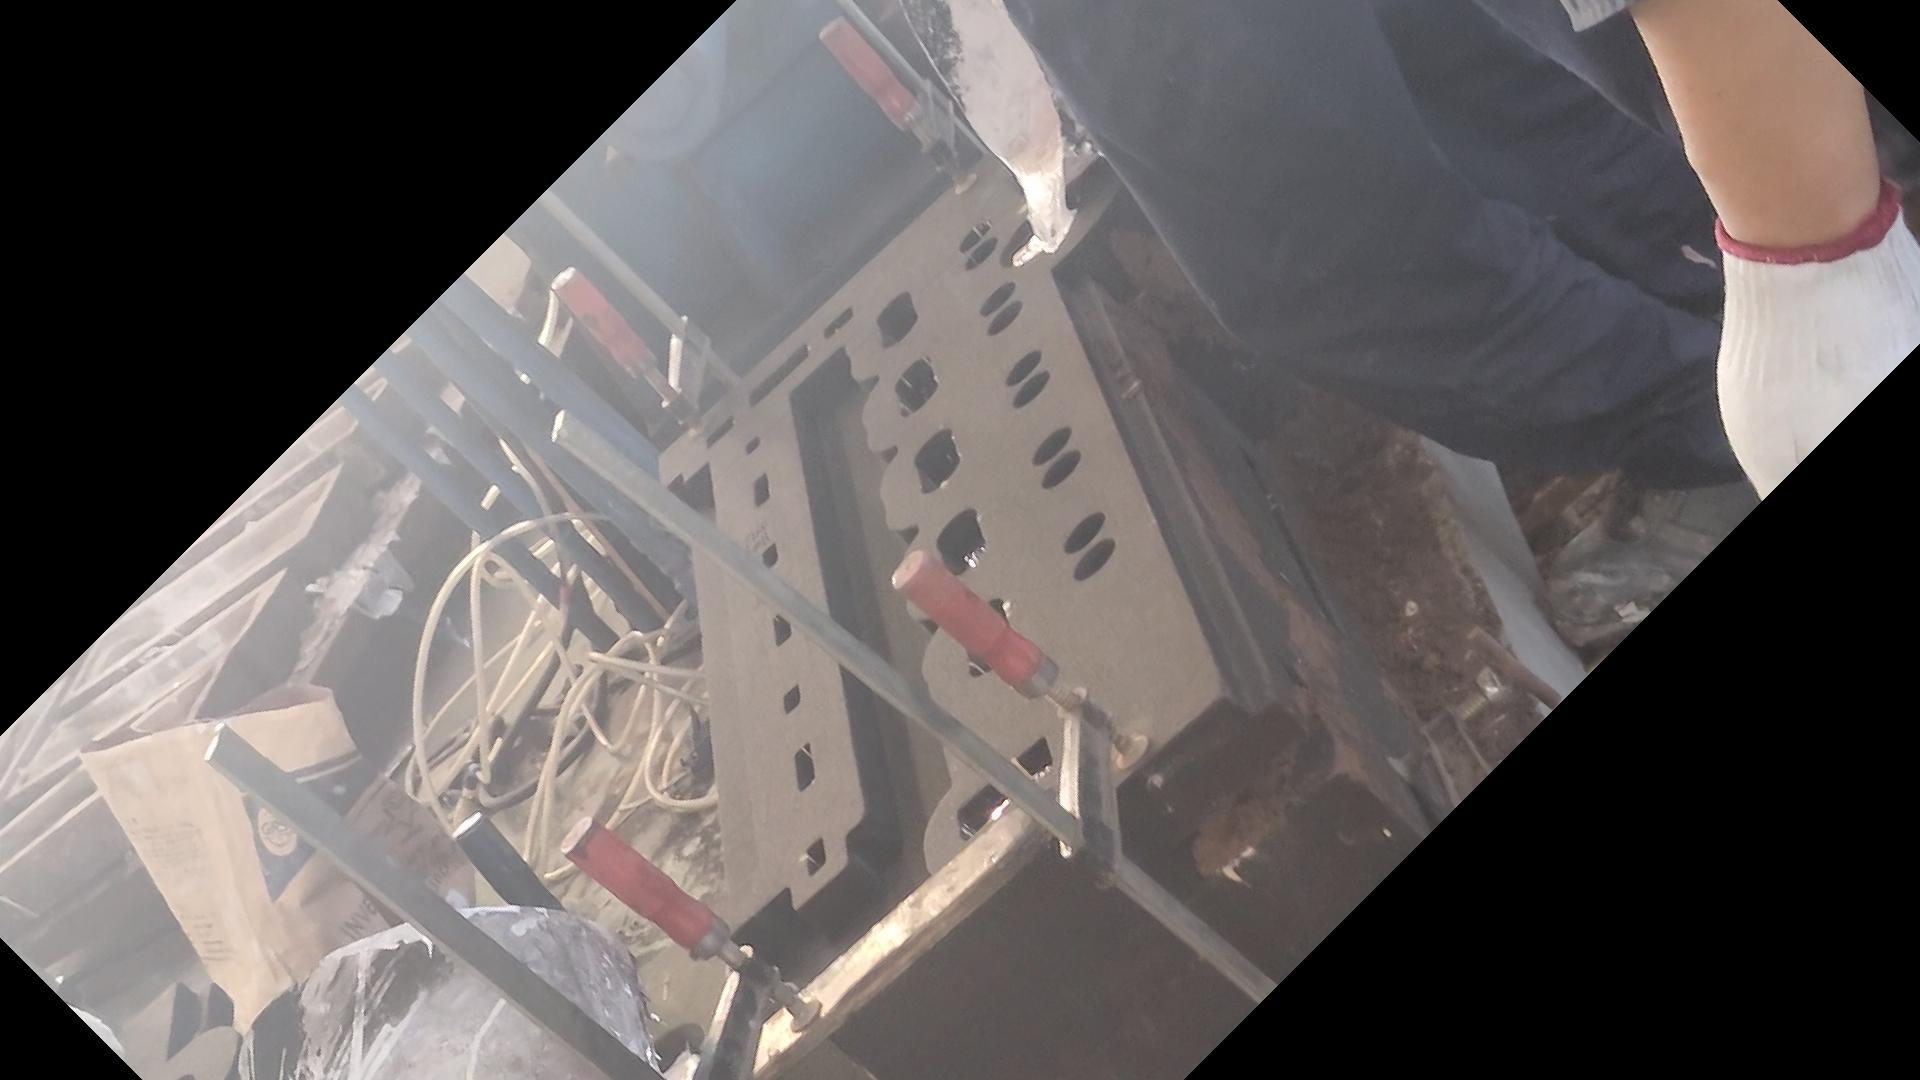pouring hole: (1000, 190, 1077, 266), (636, 1021, 705, 1080), (173, 1069, 196, 1080)
